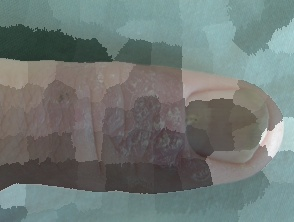Nail_psoriasis: (63, 50, 249, 192), (206, 79, 289, 178)
